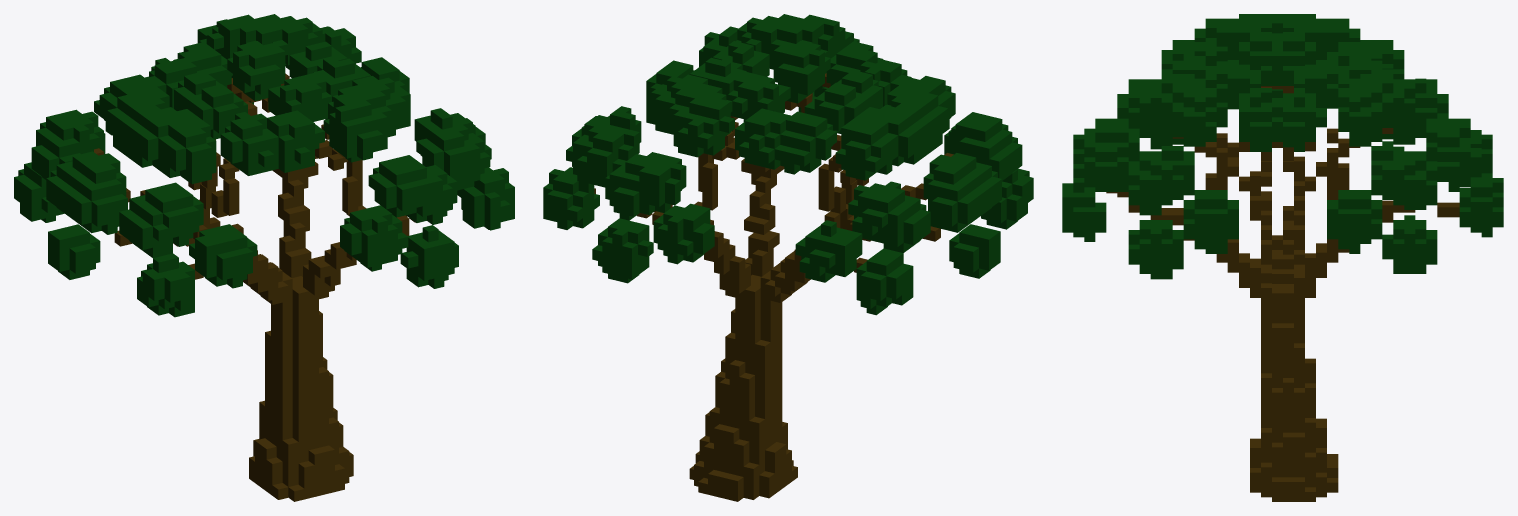
Rendered from TreeLOD-2-Tree3_2.obj.
3 views of the same model, side by side, from view 1: azimuth 30°, elevation 25°; view 2: azimuth 150°, elevation 25°; view 3: azimuth 270°, elevation 25° (orthographic). The views are drawn at different scales.
Visible parts, largest first — view 1: Tree3_2; view 2: Tree3_2; view 3: Tree3_2.
Part boxes in pixels (x1=…): Tree3_2: x1=14, y1=14, x2=514, y2=501; Tree3_2: x1=543, y1=14, x2=1033, y2=501; Tree3_2: x1=1062, y1=14, x2=1503, y2=501.
Size of the model in its own units: 7.6 by 8 by 8.
1 material, 1 textured.
